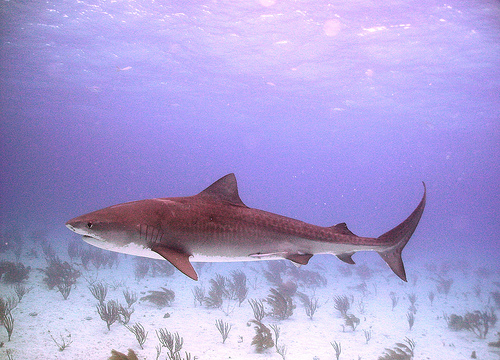shark: (52, 162, 440, 301)
